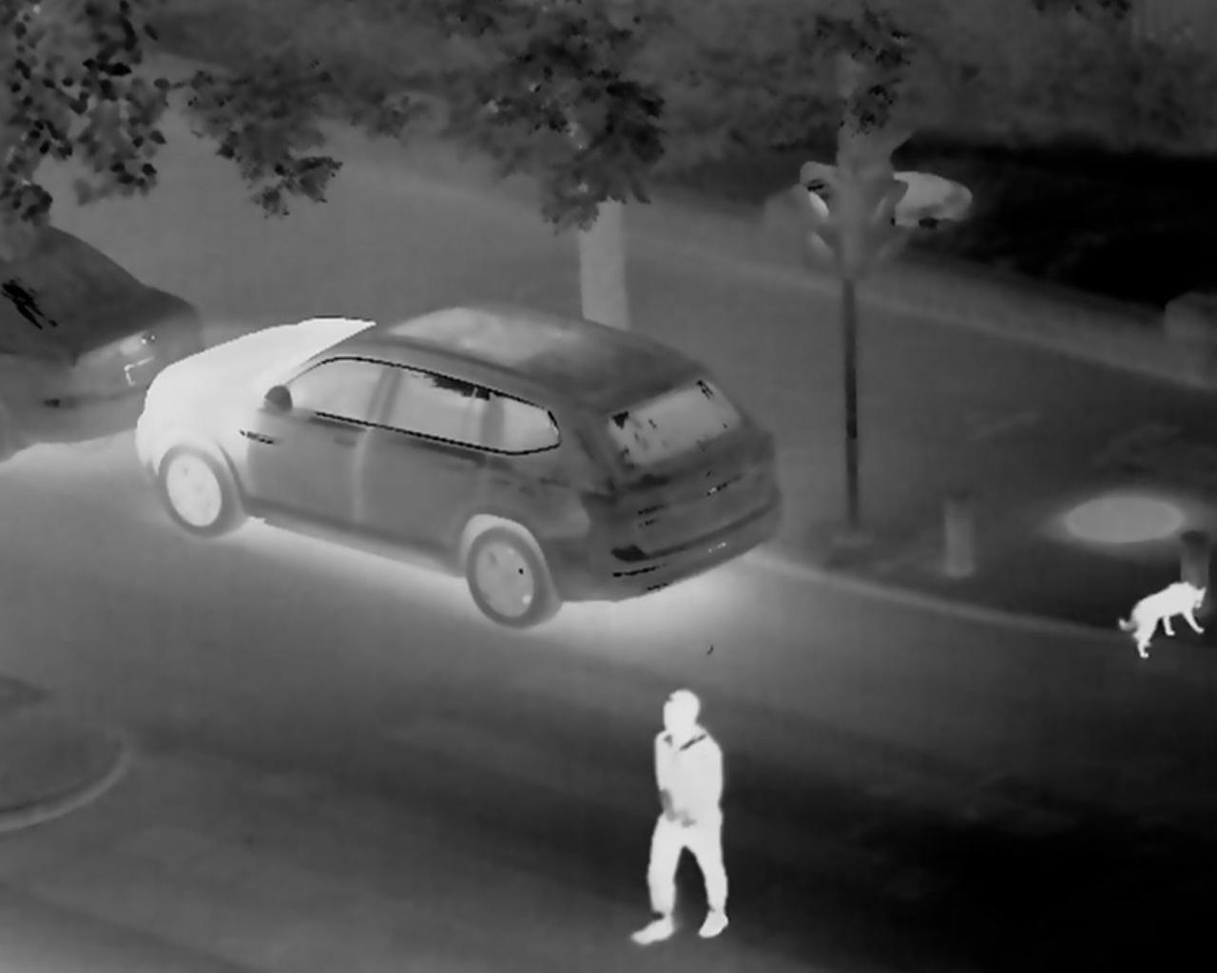person: (621, 680, 736, 949)
